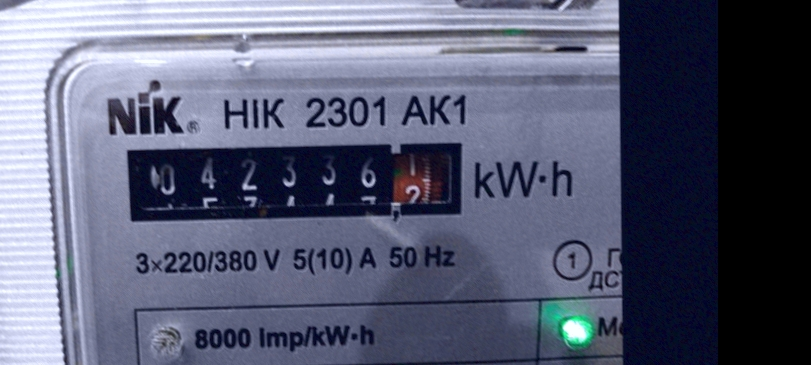0: (158, 163, 178, 198)
1: (406, 151, 419, 180)
2: (239, 158, 259, 194), (403, 185, 422, 207)
3: (280, 154, 299, 192), (318, 153, 338, 189)
4: (199, 156, 218, 193)
6: (357, 156, 379, 191)
screen: (119, 135, 472, 232)
